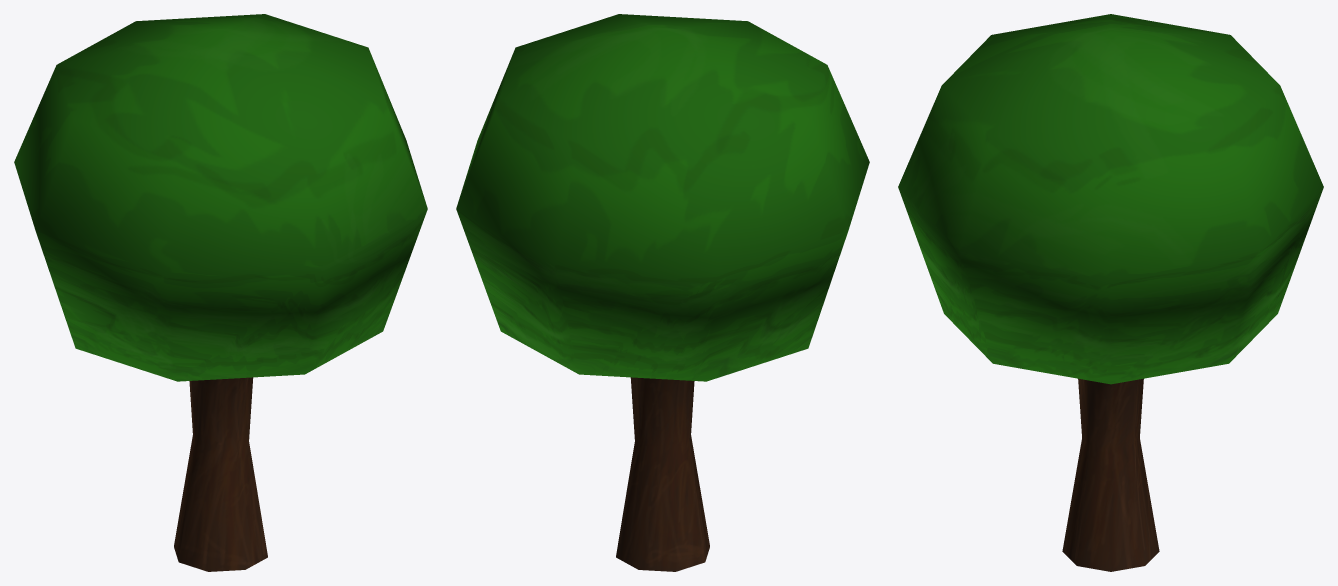
Rendered from tree01.fbx.
3 renders of one model, left to right at view 1: azimuth 30°, elevation 25°; view 2: azimuth 150°, elevation 25°; view 3: azimuth 270°, elevation 25°, orthographic.
Parts seen in each view (by area): view 1: polySurface1; view 2: polySurface1; view 3: polySurface1.
Part boxes in pixels (x1,y1,x2,y2): polySurface1: [14, 14, 427, 571]; polySurface1: [456, 14, 869, 571]; polySurface1: [898, 14, 1323, 571].
Size of the model in its own units: 17.89 by 24.02 by 17.89.
